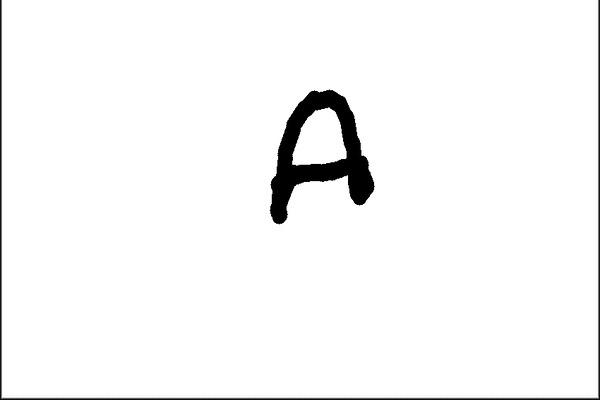A: (249, 75, 382, 230)
